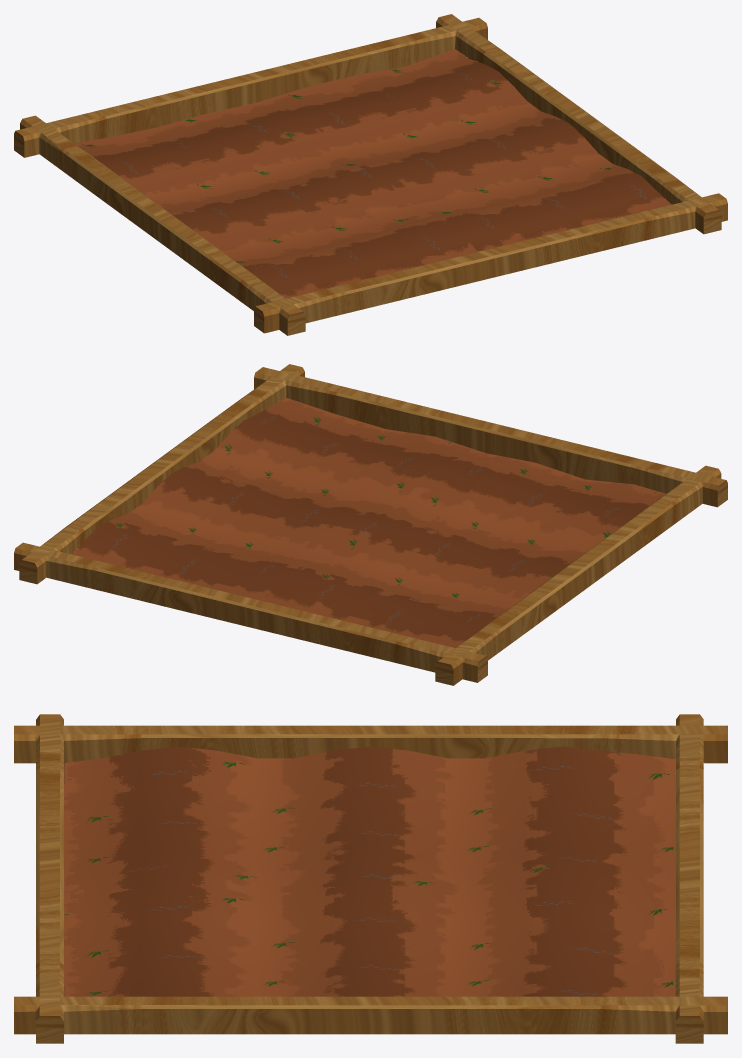
File: FarmPlot_Textured.fbx
3 views of the same model, one above another, from view 1: azimuth 30°, elevation 25°; view 2: azimuth 150°, elevation 25°; view 3: azimuth 270°, elevation 25° (orthographic). The views are drawn at different scales.
Visible parts, largest first — view 1: pPlane1; view 2: pPlane1; view 3: pPlane1.
Boxes of the visible parts, x1=… form: pPlane1: x1=14, y1=14, x2=727, y2=335; pPlane1: x1=14, y1=364, x2=727, y2=685; pPlane1: x1=14, y1=714, x2=727, y2=1043.
Size of the model in its own units: 147 by 7.57 by 147.
2 materials, 2 textured.
